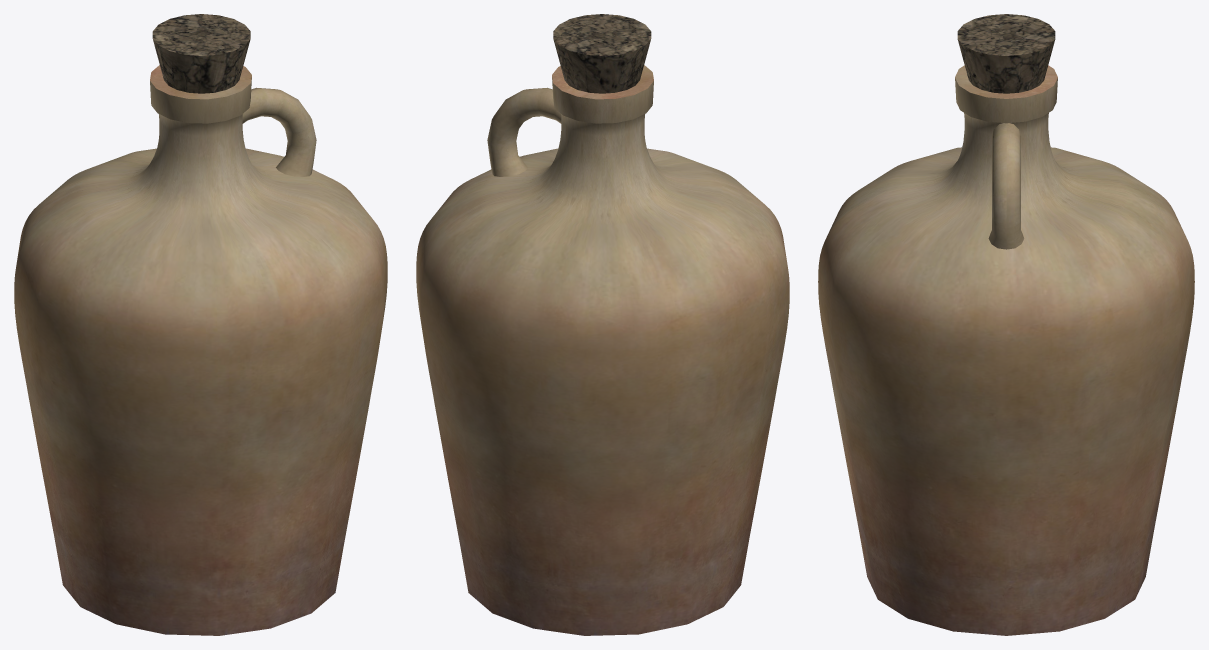
File: Jug1.fbx
3 renders of one model, left to right at view 1: azimuth 30°, elevation 25°; view 2: azimuth 150°, elevation 25°; view 3: azimuth 270°, elevation 25°, orthographic.
Parts seen in each view (by area): view 1: MI-Bottle_876.Shape; view 2: MI-Bottle_876.Shape; view 3: MI-Bottle_876.Shape.
Part boxes in pixels (left/top/right/bottom): MI-Bottle_876.Shape: left=14, top=14, right=387, bottom=635; MI-Bottle_876.Shape: left=416, top=14, right=789, bottom=635; MI-Bottle_876.Shape: left=818, top=14, right=1194, bottom=635.
Size of the model in its own units: 19.27 by 30.61 by 19.27.
2 materials, 2 textured.
